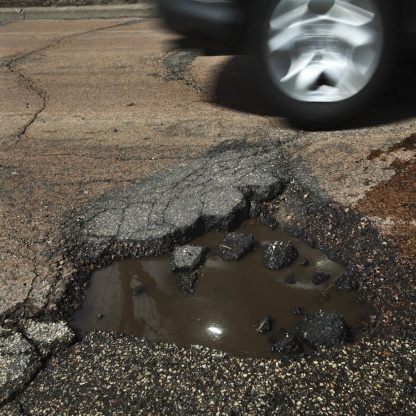pothole: (28, 172, 412, 377)
